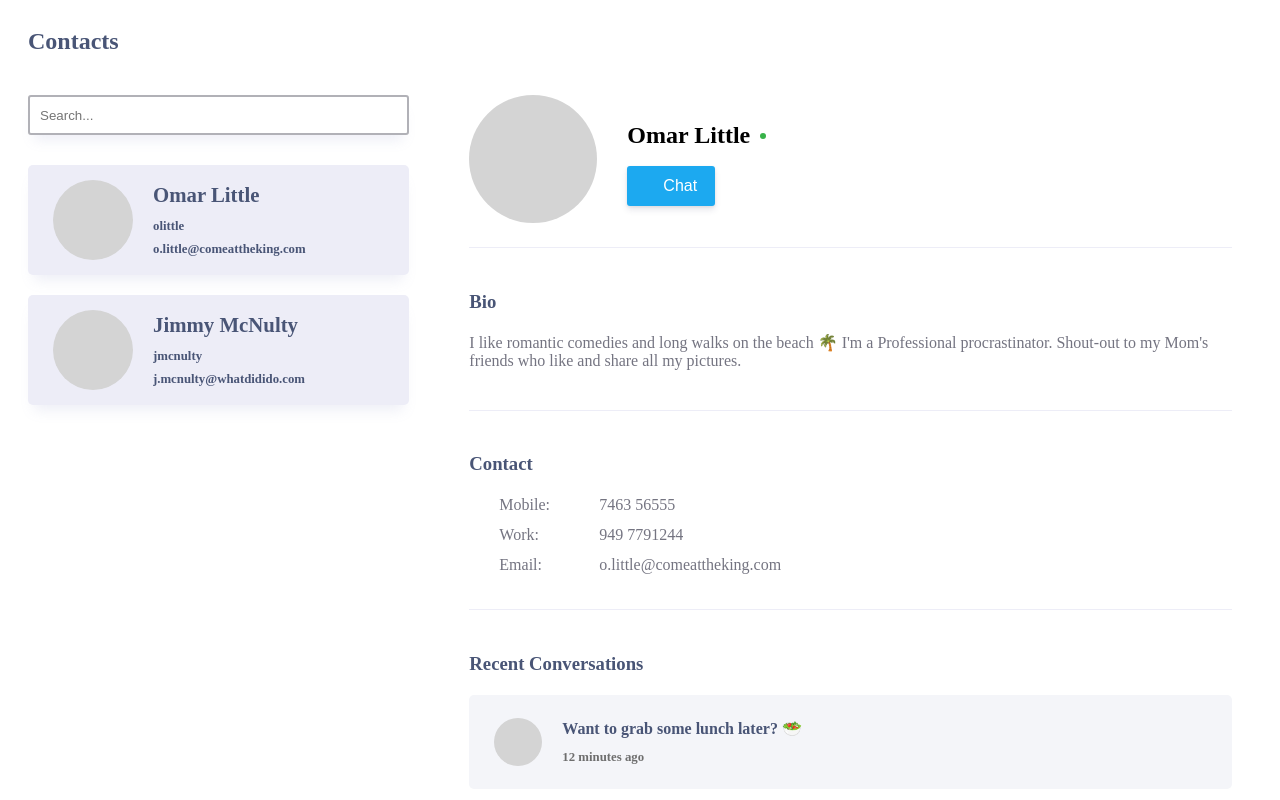
Scenario: Searching Contacts › should display correct search results
# Type in some search text
Type "Jimmy" into the search field.
click(219, 115); type("Jimmy")  # box [28,95,409,135]
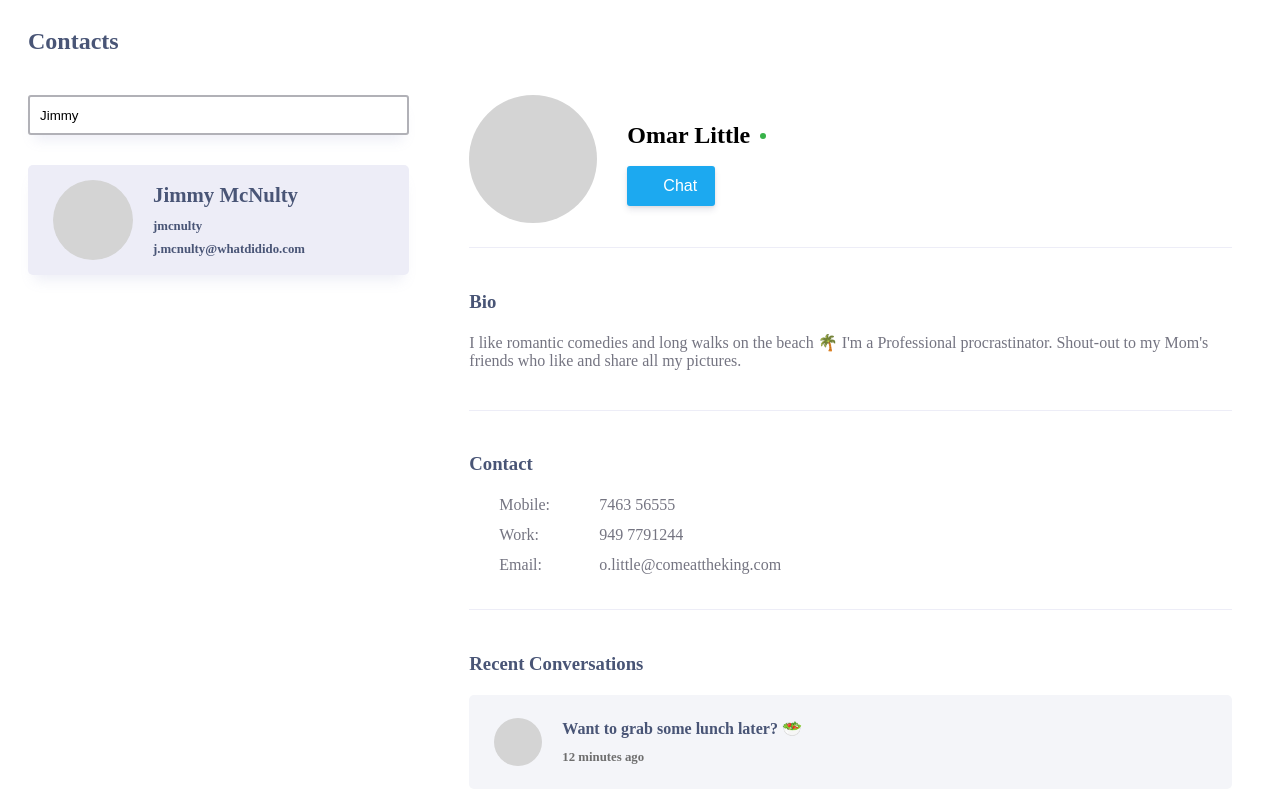
# Click on the result
Click the text "Jimmy McNulty".
click(229, 195)  # box [153,183,305,207]
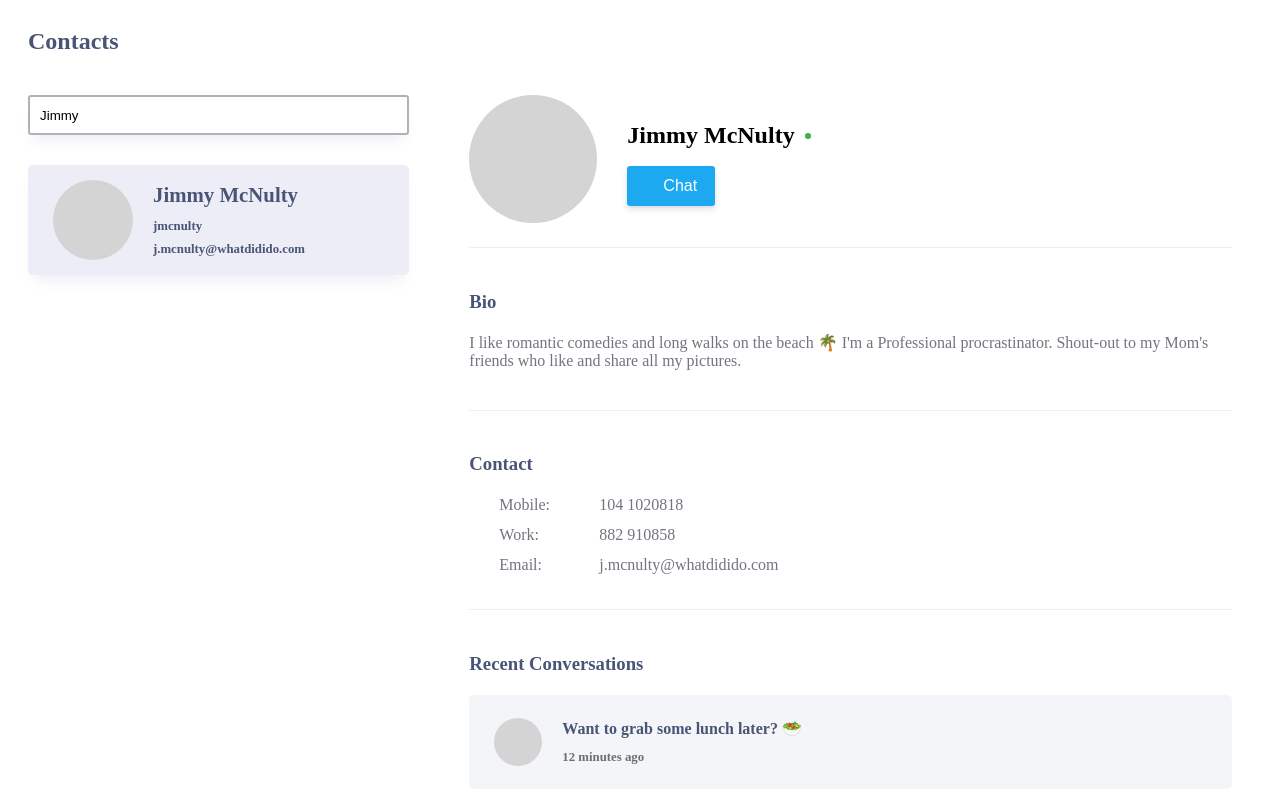
Expected: the heading "Omar Little" is gone
